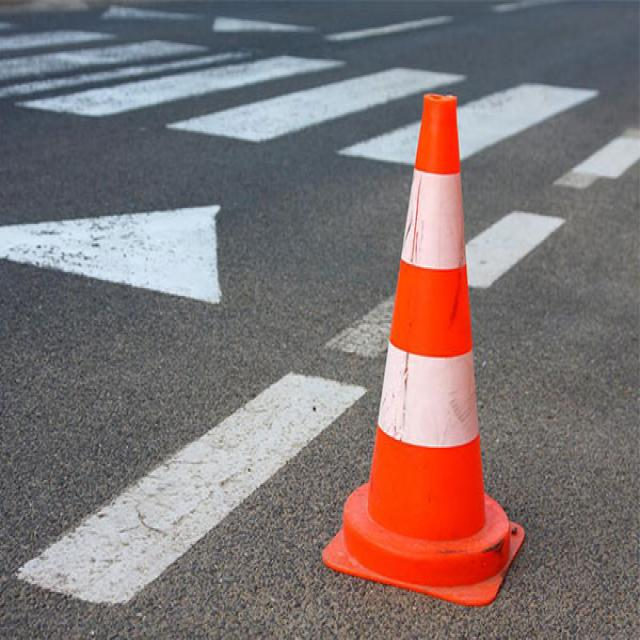Traffic Cone: (309, 41, 546, 624)
